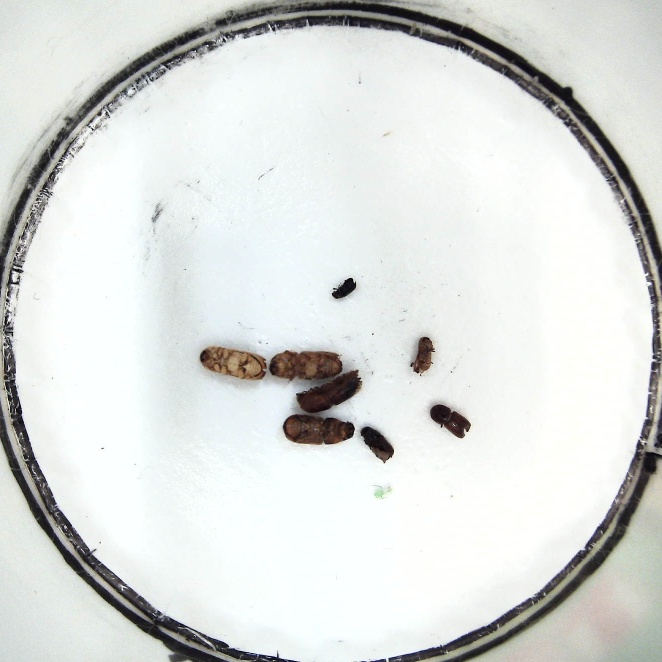acuminatus: (410, 336, 435, 374)
armandi: (359, 426, 394, 463)
boerner: (297, 372, 363, 413), (199, 345, 267, 381), (269, 351, 341, 380)
coleoptera: (331, 276, 356, 299)
leconte: (282, 414, 353, 447)
linnaeus: (429, 404, 471, 438)
